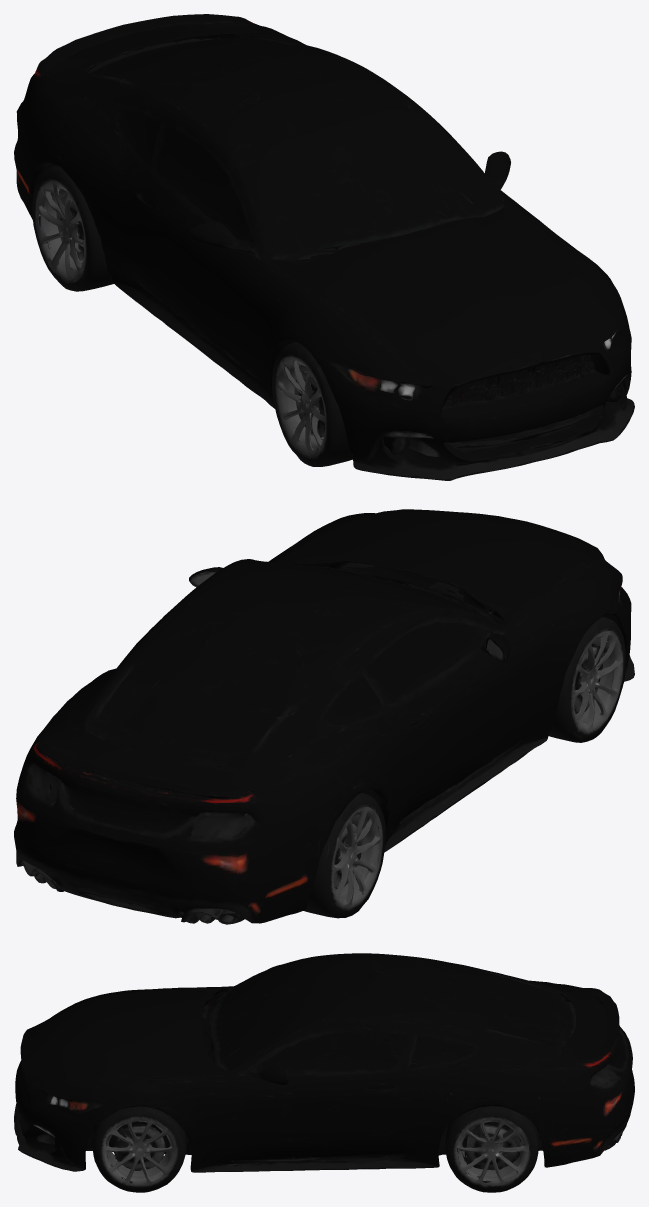
File: car_black.0.glb
The picture shows the model from 3 angles, top to bottom: view 1: azimuth 30°, elevation 25°; view 2: azimuth 150°, elevation 25°; view 3: azimuth 270°, elevation 25°; orthographic projection. The views are drawn at different scales.
Visible parts, largest first — view 1: geometry_0; view 2: geometry_0; view 3: geometry_0.
Boxes of the visible parts, x1,y1,x2,y2 form: geometry_0: (14, 14, 634, 480); geometry_0: (14, 509, 634, 924); geometry_0: (14, 953, 634, 1192).
Size of the model in its own units: 0.4323 by 0.2863 by 0.9991.
Materials: 1 (1 with a texture image).
